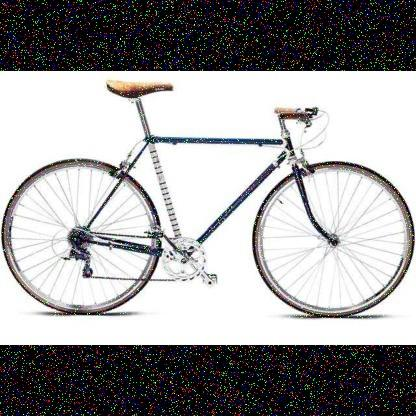Bicycle: (0, 79, 414, 323)
